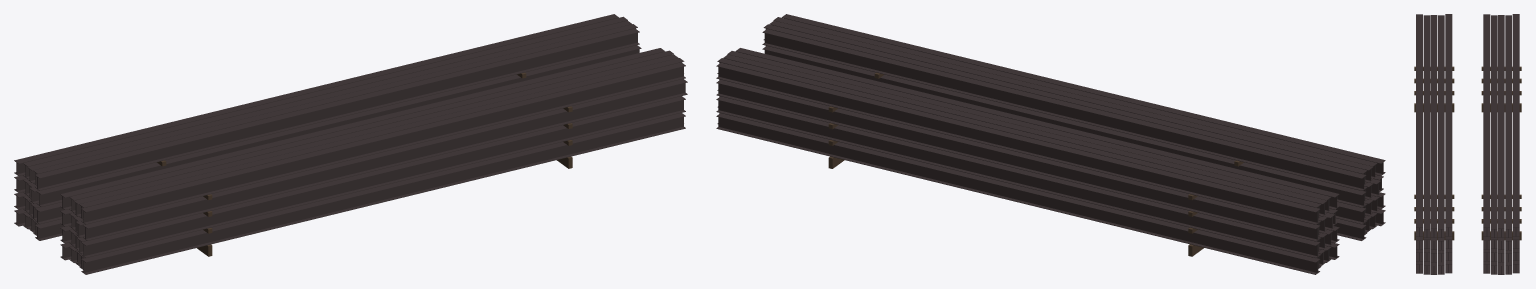
The model's file is s_steel_factory_metal_storage_03.dae.
The picture shows the model from 3 angles, left to right: view 1: azimuth 30°, elevation 25°; view 2: azimuth 150°, elevation 25°; view 3: azimuth 270°, elevation 25°; orthographic projection. The views are drawn at different scales.
Parts seen in each view (by area): view 1: s_metal_20m_storage3_a80; view 2: s_metal_20m_storage3_a80; view 3: s_metal_20m_storage3_a80.
Boxes of the visible parts, <box> form: s_metal_20m_storage3_a80: <box>14,14,687,274</box>; s_metal_20m_storage3_a80: <box>716,14,1385,274</box>; s_metal_20m_storage3_a80: <box>1414,14,1521,274</box>.
Size of the model in its own units: 15.12 by 3.2 by 1.75.
